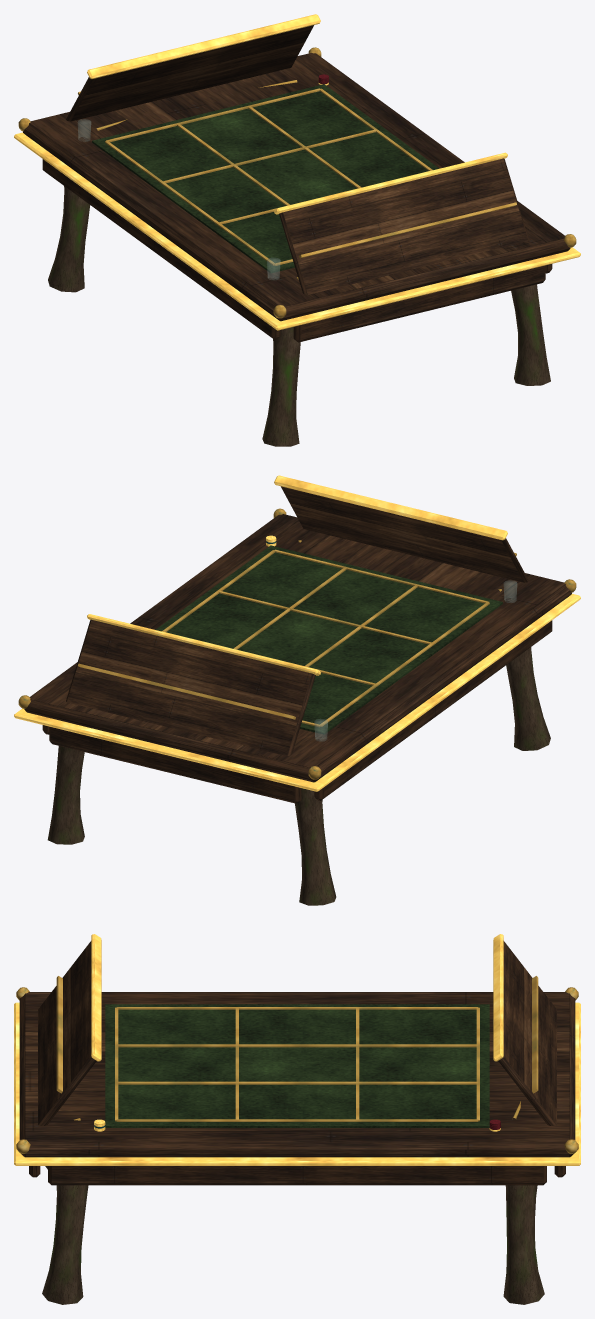
File: sp_gt_table.glb
The picture shows the model from 3 angles, top to bottom: view 1: azimuth 30°, elevation 25°; view 2: azimuth 150°, elevation 25°; view 3: azimuth 270°, elevation 25°; orthographic projection. The views are drawn at different scales.
Visible parts, largest first — view 1: spire; view 2: spire; view 3: spire.
Boxes of the visible parts, <box> form: spire: <box>14,14,580,446</box>; spire: <box>14,475,580,905</box>; spire: <box>14,934,580,1304</box>.
Bounding box in the file's own units: 2.01 × 1.4 × 3.01.
Materials: 8 (7 with a texture image).
